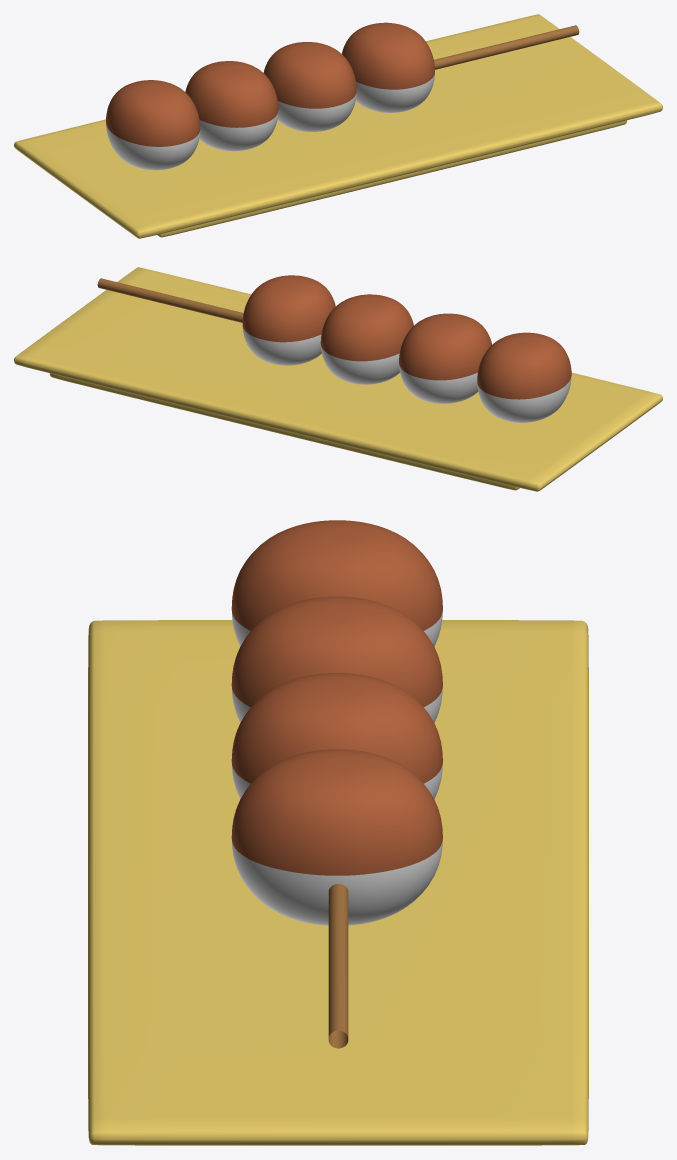
Rendered from dango.glb.
3 views of the same model, one above another, from view 1: azimuth 30°, elevation 25°; view 2: azimuth 150°, elevation 25°; view 3: azimuth 270°, elevation 25° (orthographic). The views are drawn at different scales.
Visible parts, largest first — view 1: 平面.002, Roundcube.001, 円柱; view 2: 平面.002, Roundcube.001, 円柱; view 3: 平面.002, Roundcube.001, 円柱.
Boxes of the visible parts, <box> form: 平面.002: <box>14,14,662,238</box>; Roundcube.001: <box>106,22,434,170</box>; 円柱: <box>434,25,579,69</box>; 平面.002: <box>14,267,662,491</box>; Roundcube.001: <box>242,275,571,422</box>; 円柱: <box>97,278,243,322</box>; 平面.002: <box>88,620,588,1145</box>; Roundcube.001: <box>231,520,442,925</box>; 円柱: <box>328,884,348,1048</box>.
Bounding box in the file's own units: 1.19 × 0.2129 × 0.4891.
